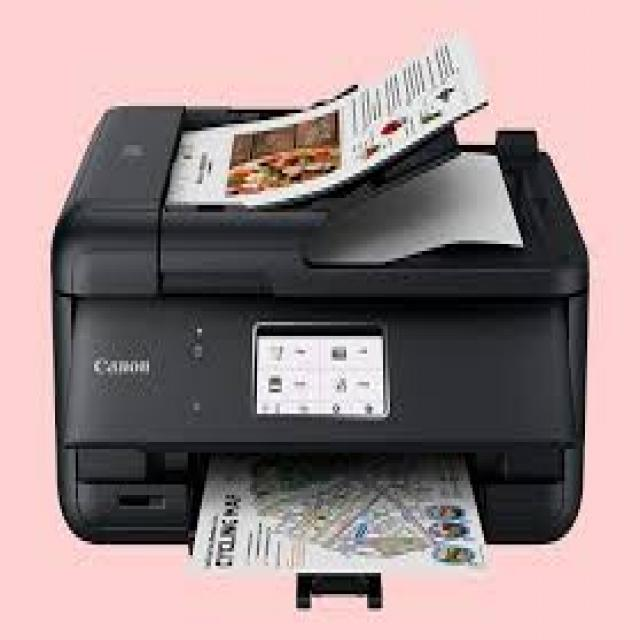printer: (36, 21, 622, 595)
